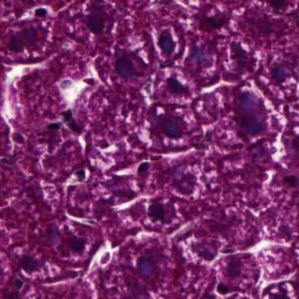inflammation: (140, 100, 197, 153), (210, 251, 264, 299), (146, 19, 188, 61)
